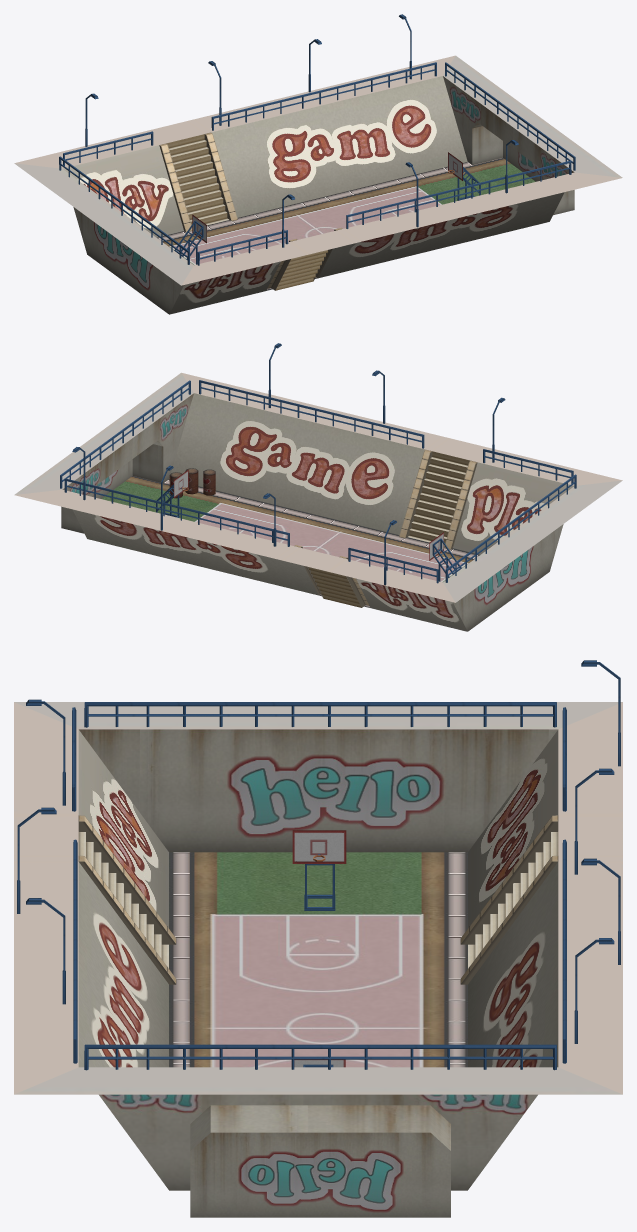
File: lanqiuchang.FBX
3 renders of one model, top to bottom at view 1: azimuth 30°, elevation 25°; view 2: azimuth 150°, elevation 25°; view 3: azimuth 270°, elevation 25°, orthographic. The views are drawn at different scales.
Visible parts, largest first — view 1: 堤坝03, 堤坝04, 对象07, 对象06, Box02, 图形09, 图形08, 图形11, 图形10, 图形13, 对象08, 图形12 (+1 smaller); view 2: 堤坝04, 堤坝03, 对象06, 对象07, Box02, 图形08, 图形09, 图形11, 图形10, 图形13, 图形12, 对象09 (+1 smaller); view 3: 对象07, Box02, 对象06, 堤坝04, 堤坝03, 图形10, 图形11, 对象09, 图形08, 图形09.
Boxes of the visible parts, bbox=[...] form: 堤坝03: bbox=[15, 55, 467, 237]; 堤坝04: bbox=[169, 172, 621, 314]; 对象07: bbox=[157, 162, 504, 290]; 对象06: bbox=[443, 56, 622, 215]; Box02: bbox=[14, 163, 193, 314]; 图形09: bbox=[211, 62, 436, 130]; 图形08: bbox=[346, 160, 571, 228]; 图形11: bbox=[59, 156, 189, 264]; 图形10: bbox=[445, 62, 575, 170]; 图形13: bbox=[197, 230, 288, 265]; 对象08: bbox=[448, 152, 480, 200]; 图形12: bbox=[63, 131, 153, 165]; 堤坝04: bbox=[169, 373, 622, 554]; 堤坝03: bbox=[14, 489, 467, 631]; 对象06: bbox=[14, 373, 193, 533]; 对象07: bbox=[132, 479, 479, 607]; Box02: bbox=[443, 480, 622, 631]; 图形08: bbox=[199, 380, 424, 448]; 图形09: bbox=[64, 478, 289, 546]; 图形11: bbox=[445, 474, 576, 582]; 图形10: bbox=[60, 380, 190, 488]; 图形13: bbox=[483, 449, 573, 483]; 图形12: bbox=[348, 547, 438, 583]; 对象09: bbox=[429, 532, 461, 581]; 对象07: bbox=[169, 852, 467, 1067]; Box02: bbox=[14, 702, 622, 852]; 对象06: bbox=[14, 1067, 622, 1217]; 堤坝04: bbox=[14, 702, 176, 1094]; 堤坝03: bbox=[460, 702, 622, 1094]; 图形10: bbox=[84, 1044, 556, 1070]; 图形11: bbox=[84, 702, 556, 727]; 对象09: bbox=[292, 830, 346, 910]; 图形08: bbox=[73, 839, 77, 1063]; 图形09: bbox=[562, 839, 566, 1063].
Size of the model in its own units: 3109 by 841 by 2039.
